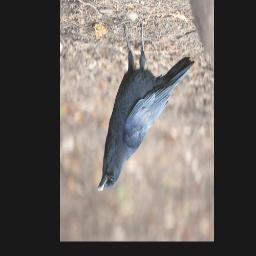Crow: (96, 15, 194, 192)
